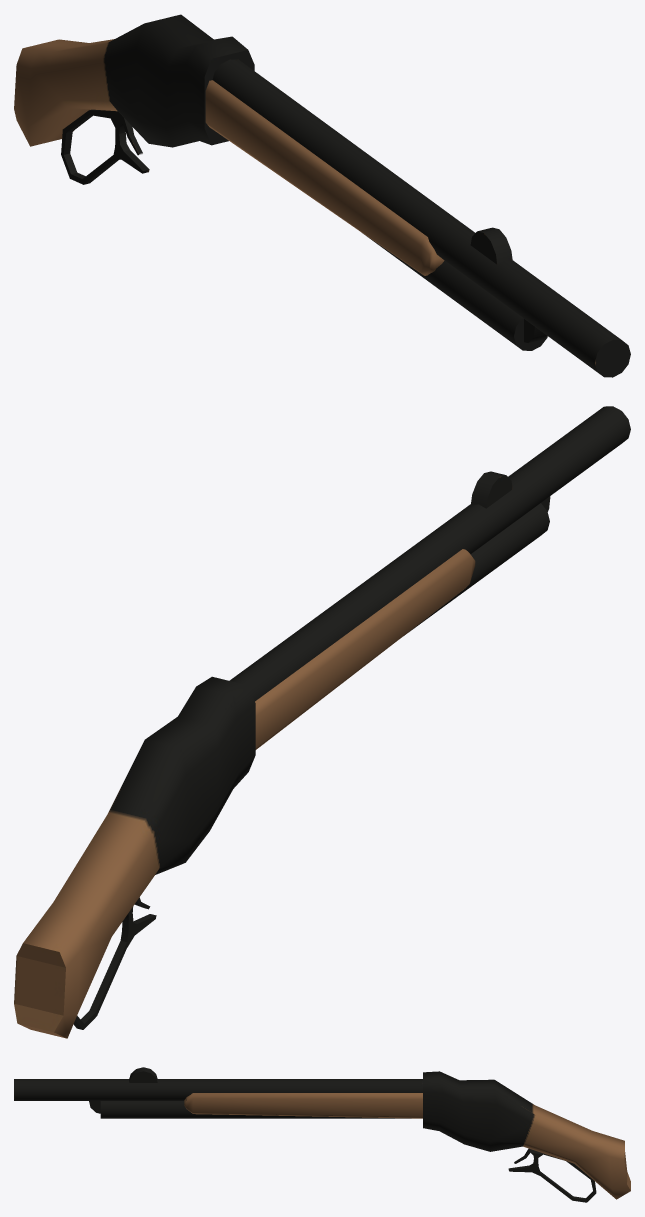
File: shotgun.fbx
The picture shows the model from 3 angles, top to bottom: view 1: azimuth 30°, elevation 25°; view 2: azimuth 150°, elevation 25°; view 3: azimuth 270°, elevation 25°; orthographic projection. The views are drawn at different scales.
Visible parts, largest first — view 1: polySurface2; view 2: polySurface2; view 3: polySurface2.
Boxes of the visible parts, bbox=[...] form: polySurface2: bbox=[14, 14, 630, 377]; polySurface2: bbox=[14, 406, 630, 1038]; polySurface2: bbox=[14, 1067, 630, 1202].
Bounding box in the file's own units: 1.45 × 6.81 × 28.54.
1 material, 1 textured.
